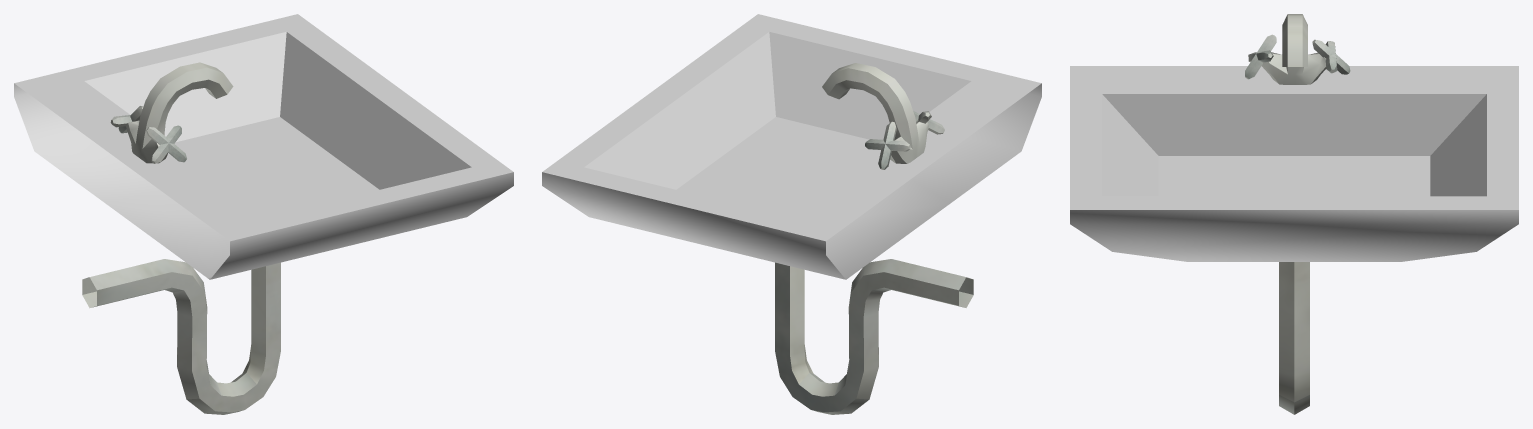
File: BathroomSink.FBX
The picture shows the model from 3 angles, left to right: view 1: azimuth 30°, elevation 25°; view 2: azimuth 150°, elevation 25°; view 3: azimuth 270°, elevation 25°; orthographic projection. The views are drawn at different scales.
Parts seen in each view (by area): view 1: Sink, Pipe; view 2: Sink, Pipe; view 3: Sink, Pipe.
Part boxes in pixels (box(x1,y1,x2,y2)): Sink: box(14, 14, 513, 279); Pipe: box(82, 62, 280, 414); Sink: box(542, 14, 1041, 279); Pipe: box(775, 63, 973, 414); Sink: box(1070, 66, 1518, 261); Pipe: box(1245, 14, 1350, 414).
Bounding box in the file's own units: 32.45 × 34.89 × 38.39.
